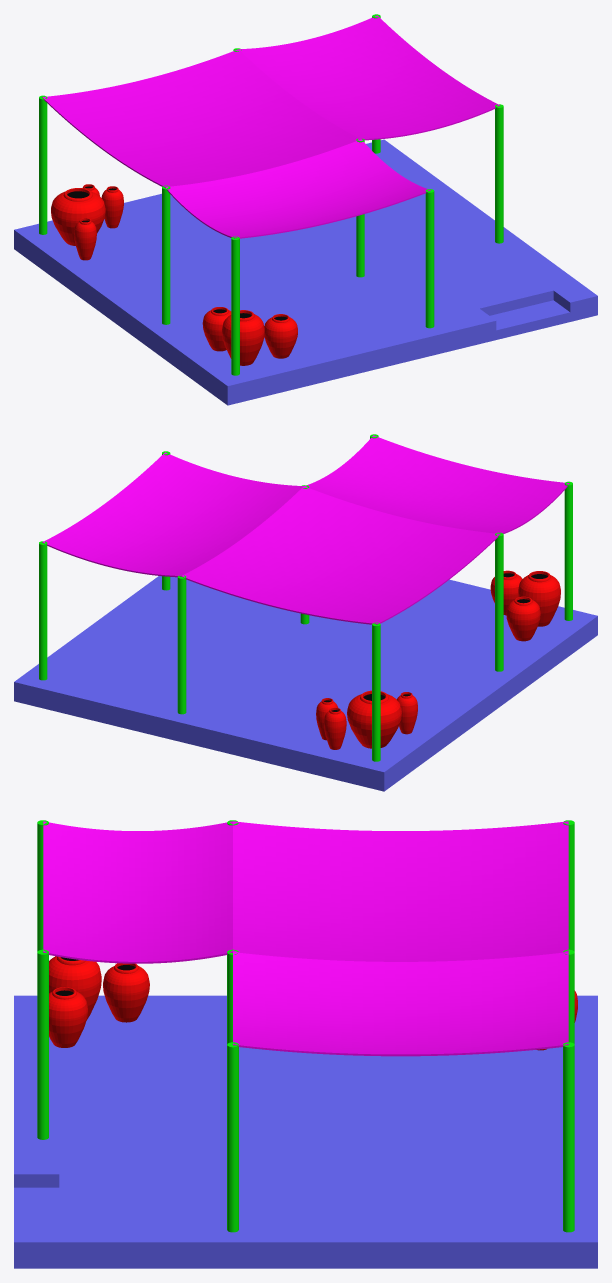
The model's file is Basic Warehouse.fbx.
The picture shows the model from 3 angles, top to bottom: view 1: azimuth 30°, elevation 25°; view 2: azimuth 150°, elevation 25°; view 3: azimuth 270°, elevation 25°; orthographic projection. The views are drawn at different scales.
Visible parts, largest first — view 1: Cube, Z Function, Z Function.002, Z Function.001, Cylinder, Cylinder.005, Cylinder.001, Cylinder.002, Cylinder.003, Cylinder.004, Cylinder.006; view 2: Cube, Z Function, Z Function.002, Z Function.001, Cylinder, Cylinder.005, Cylinder.001, Cylinder.003, Cylinder.007, Cylinder.004, Cylinder.002; view 3: Cube, Z Function, Z Function.002, Z Function.001, Cylinder, Cylinder.003, Cylinder.002, Cylinder.001.
Part boxes in pixels (x1=…): Cube: x1=14, y1=139, x2=597, y2=405; Z Function: x1=42, y1=49, x2=360, y2=187; Z Function.002: x1=239, y1=15, x2=500, y2=140; Z Function.001: x1=165, y1=139, x2=430, y2=238; Cylinder: x1=39, y1=14, x2=503, y2=375; Cylinder.005: x1=51, y1=188, x2=105, y2=245; Cylinder.001: x1=222, y1=310, x2=264, y2=365; Cylinder.002: x1=264, y1=314, x2=297, y2=358; Cylinder.003: x1=202, y1=307, x2=231, y2=351; Cylinder.004: x1=74, y1=218, x2=96, y2=260; Cylinder.006: x1=101, y1=186, x2=123, y2=228; Cube: x1=14, y1=576, x2=597, y2=791; Z Function: x1=181, y1=486, x2=500, y2=624; Z Function.002: x1=42, y1=452, x2=303, y2=577; Z Function.001: x1=304, y1=435, x2=569, y2=534; Cylinder: x1=39, y1=434, x2=572, y2=761; Cylinder.005: x1=347, y1=690, x2=401, y2=748; Cylinder.001: x1=518, y1=571, x2=560, y2=626; Cylinder.003: x1=506, y1=596, x2=540, y2=641; Cylinder.007: x1=324, y1=707, x2=346, y2=749; Cylinder.004: x1=397, y1=692, x2=417, y2=734; Cylinder.002: x1=490, y1=570, x2=522, y2=615; Cube: x1=14, y1=995, x2=597, y2=1268; Z Function: x1=233, y1=821, x2=568, y2=961; Z Function.002: x1=233, y1=952, x2=568, y2=1056; Z Function.001: x1=43, y1=821, x2=232, y2=963; Cylinder: x1=37, y1=820, x2=574, y2=1232; Cylinder.003: x1=103, y1=963, x2=149, y2=1022; Cylinder.002: x1=49, y1=987, x2=87, y2=1047; Cylinder.001: x1=49, y1=956, x2=101, y2=1020.
Bounding box in the file's own units: 400 × 161 × 400.
